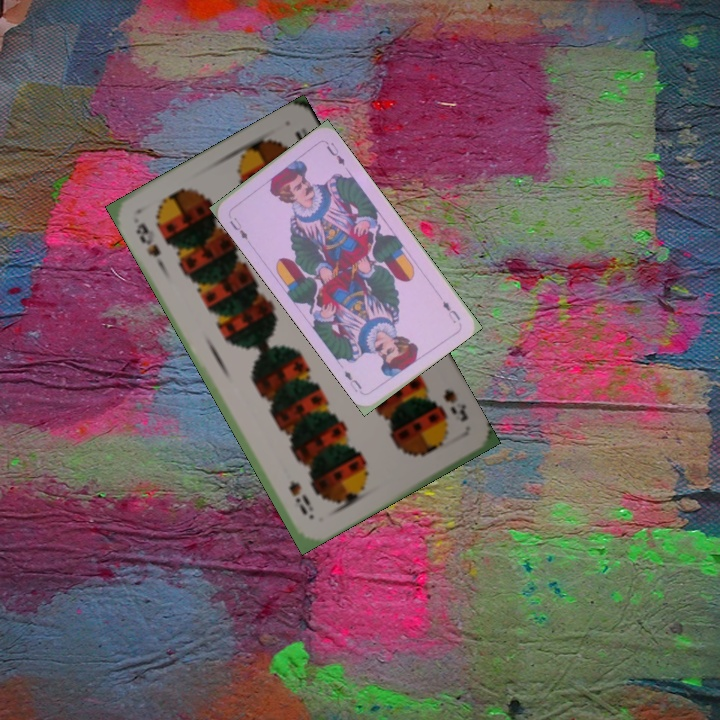EU: (438, 296, 463, 326), (226, 213, 251, 242)
S8: (131, 219, 167, 271), (439, 385, 471, 425)
